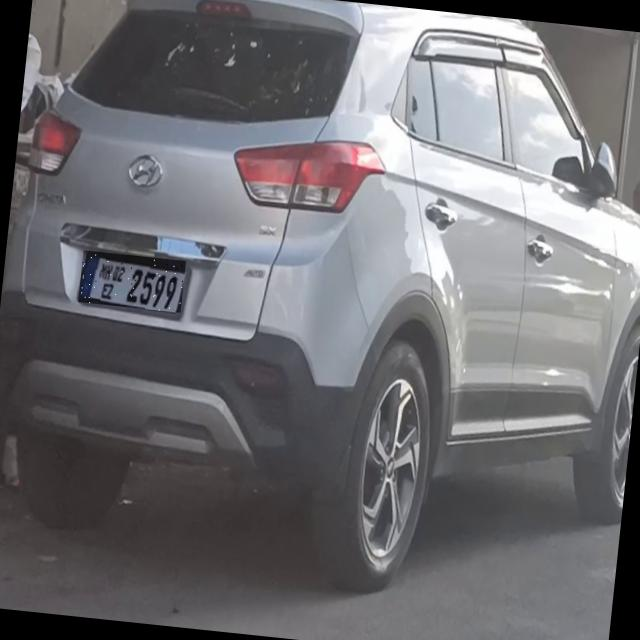Plate: (79, 251, 187, 313)
